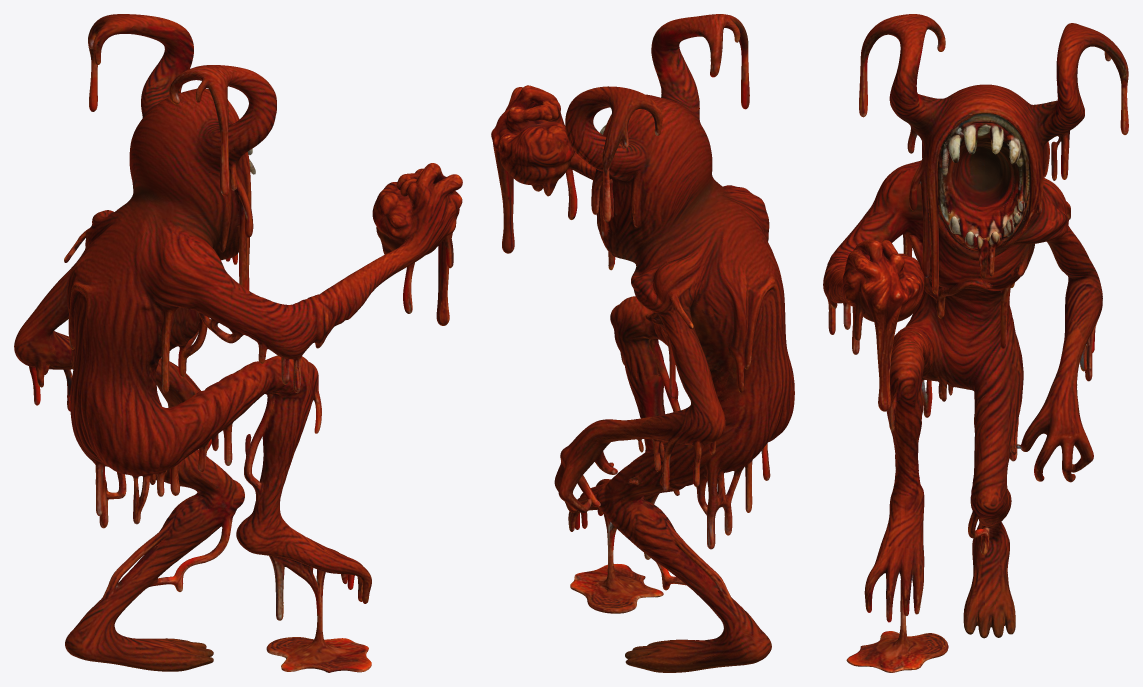
File: BC-Imp.glb
The picture shows the model from 3 angles, left to right: view 1: azimuth 30°, elevation 25°; view 2: azimuth 150°, elevation 25°; view 3: azimuth 270°, elevation 25°; orthographic projection. The views are drawn at different scales.
Parts seen in each view (by area): view 1: tripo_node_d8e510bb-b039-45e7-b695-c97e7e4a4df8; view 2: tripo_node_d8e510bb-b039-45e7-b695-c97e7e4a4df8; view 3: tripo_node_d8e510bb-b039-45e7-b695-c97e7e4a4df8.
Part boxes in pixels (x1,y1,x2,y2): tripo_node_d8e510bb-b039-45e7-b695-c97e7e4a4df8: [14, 14, 462, 672]; tripo_node_d8e510bb-b039-45e7-b695-c97e7e4a4df8: [491, 14, 794, 672]; tripo_node_d8e510bb-b039-45e7-b695-c97e7e4a4df8: [823, 14, 1128, 672].
Bounding box in the file's own units: 0.56 × 1 × 0.4583.
1 material, 1 textured.
